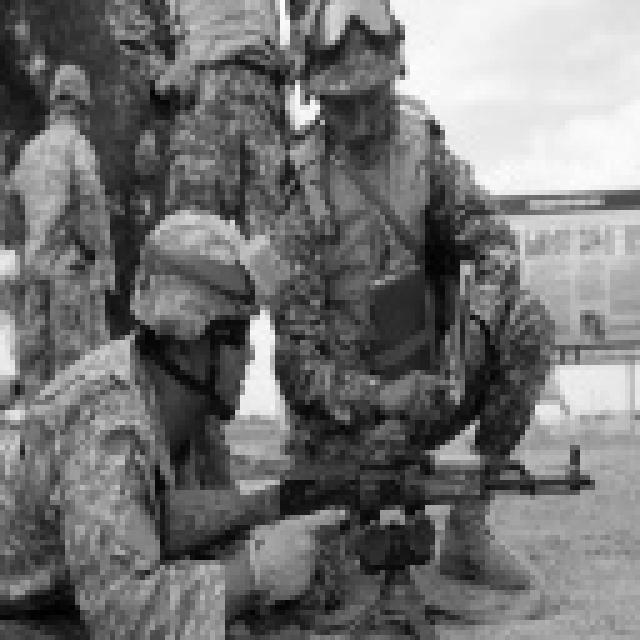Rifle: (274, 419, 604, 640)
